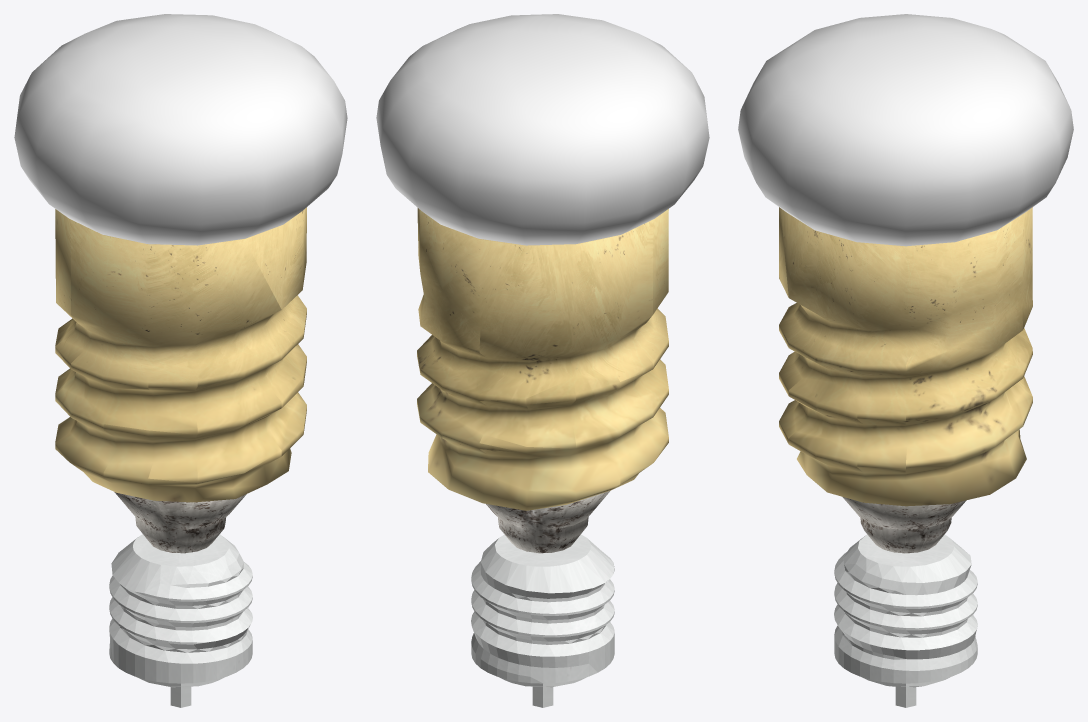
File: Bulb.fbx
3 renders of one model, left to right at view 1: azimuth 30°, elevation 25°; view 2: azimuth 150°, elevation 25°; view 3: azimuth 270°, elevation 25°, orthographic.
Visible parts, largest first — view 1: BulbScrew, BulbGlass, BulbConnector, BulbConductor; view 2: BulbScrew, BulbGlass, BulbConnector, BulbConductor; view 3: BulbScrew, BulbGlass, BulbConnector, BulbConductor.
Part boxes in pixels (bbox=[...]): BulbScrew: bbox=[55, 207, 306, 502]; BulbGlass: bbox=[14, 14, 347, 245]; BulbConnector: bbox=[109, 534, 252, 707]; BulbConductor: bbox=[114, 492, 246, 553]; BulbScrew: bbox=[417, 208, 668, 510]; BulbGlass: bbox=[376, 14, 709, 245]; BulbConnector: bbox=[471, 534, 614, 707]; BulbConductor: bbox=[486, 490, 610, 553]; BulbScrew: bbox=[779, 207, 1032, 506]; BulbGlass: bbox=[738, 14, 1073, 246]; BulbConnector: bbox=[834, 534, 977, 707]; BulbConductor: bbox=[842, 497, 966, 553].
Bounding box in the file's own units: 166 × 358 × 166.
